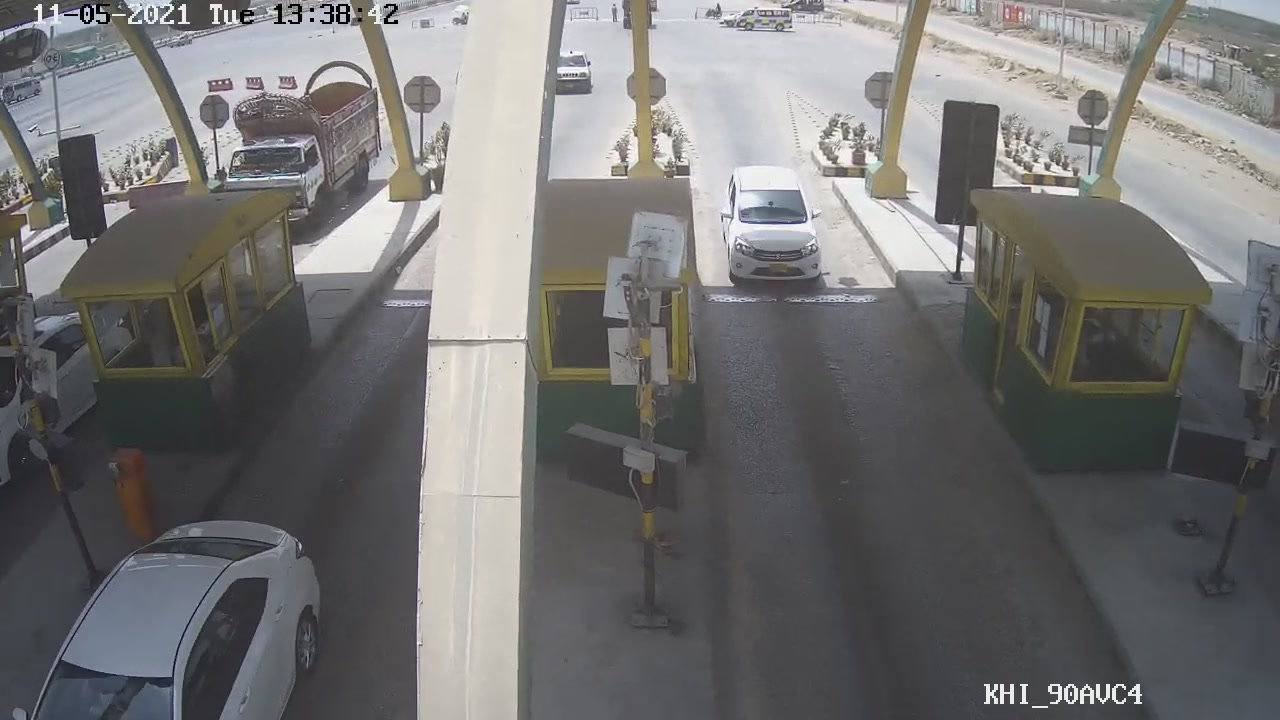F1: (712, 161, 835, 299)
